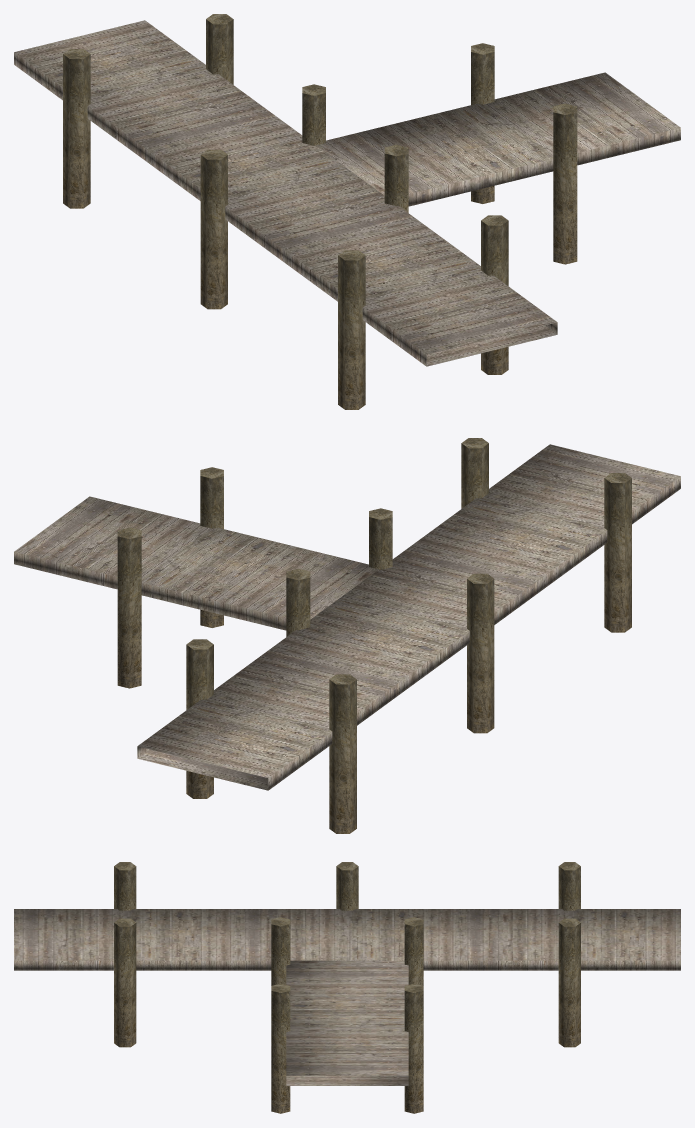
Rendered from Bridge_T-Tile.fbx.
3 views of the same model, one above another, from view 1: azimuth 30°, elevation 25°; view 2: azimuth 150°, elevation 25°; view 3: azimuth 270°, elevation 25° (orthographic). The views are drawn at different scales.
Parts seen in each view (by area): view 1: Bridge.T-Tile; view 2: Bridge.T-Tile; view 3: Bridge.T-Tile.
Boxes of the visible parts, bbox=[...] form: Bridge.T-Tile: bbox=[14, 14, 680, 409]; Bridge.T-Tile: bbox=[14, 438, 680, 833]; Bridge.T-Tile: bbox=[14, 862, 680, 1113].
Size of the model in its own units: 184 by 59.95 by 300.
